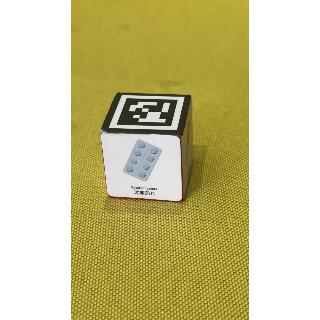Tablet: (102, 131, 185, 208)
